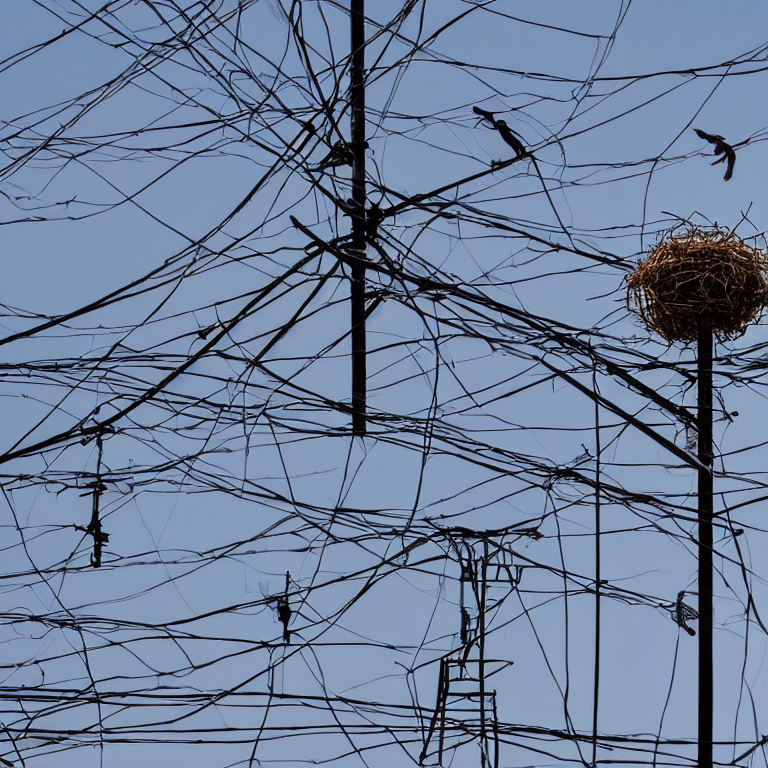nest: (630, 235, 761, 341)
